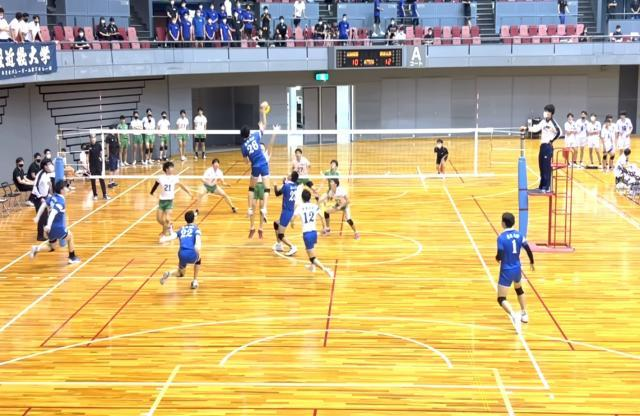spike: (237, 102, 276, 226)
